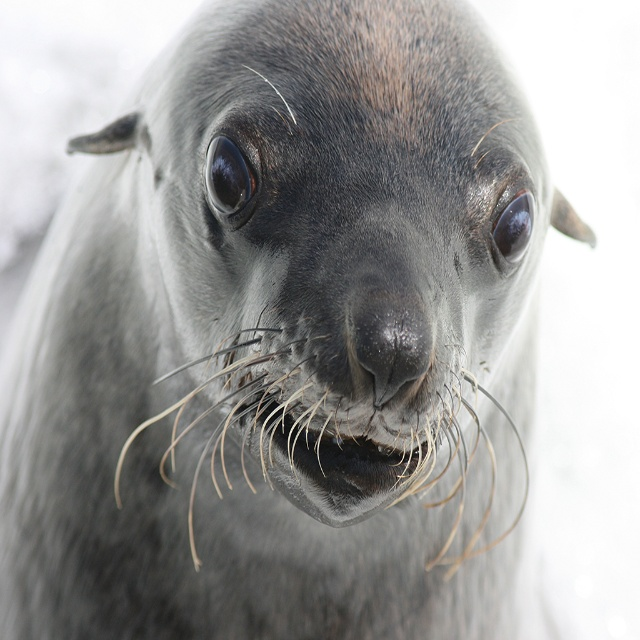Sea lion: (0, 2, 596, 639)
